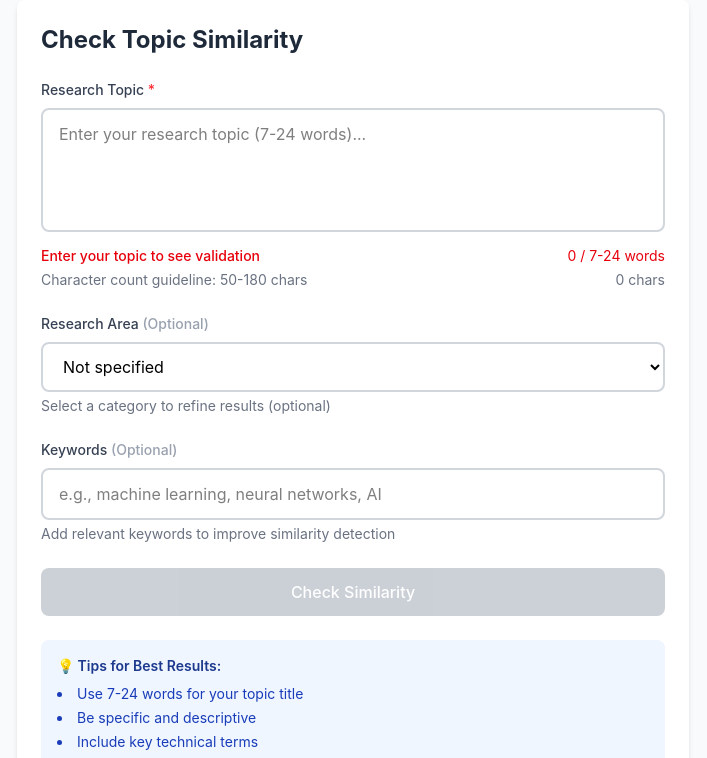
TopicForm Component › Validation Tests › 5. shows red border when word count < 7
This screenshot has width=707, height=758.
Type "Machine learning AI" into the text box with placeholder "Enter your research topic (7-24 words)...".
click(353, 170); type("Machine learning AI")  # box [41,108,665,232]
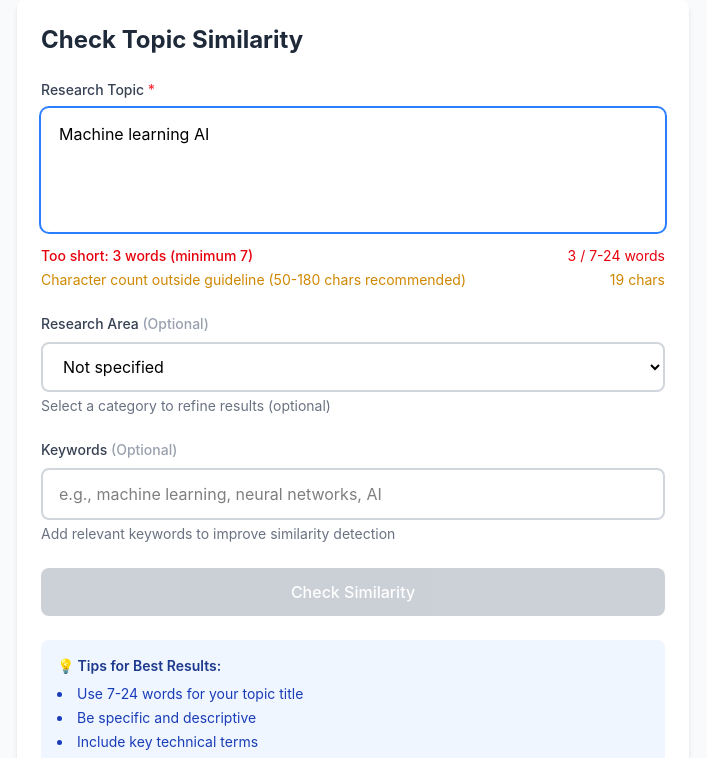
Expected: the text "Too short: 3 words (minimum 7)" is shown, [41,246,253,266]
